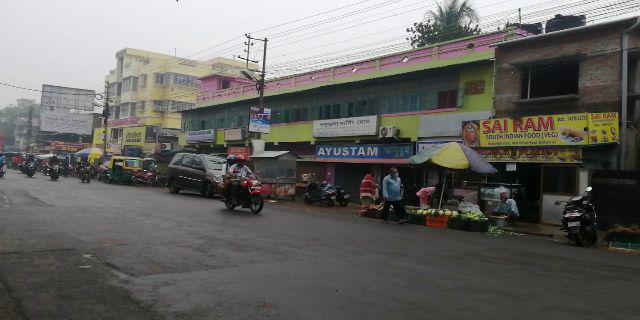Car: (169, 150, 228, 201)
Motorbike: (215, 159, 267, 213)
